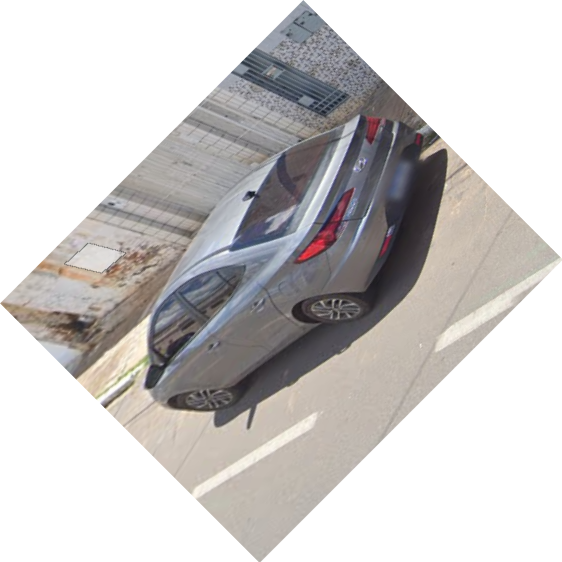car: (113, 111, 459, 416)
